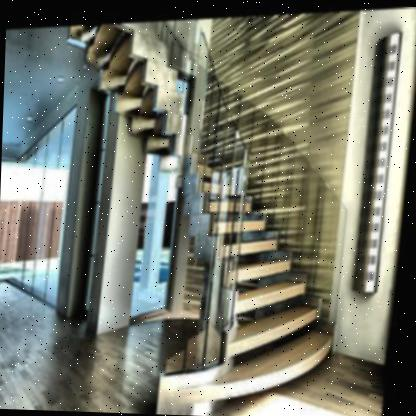stair: (196, 164, 342, 405)
